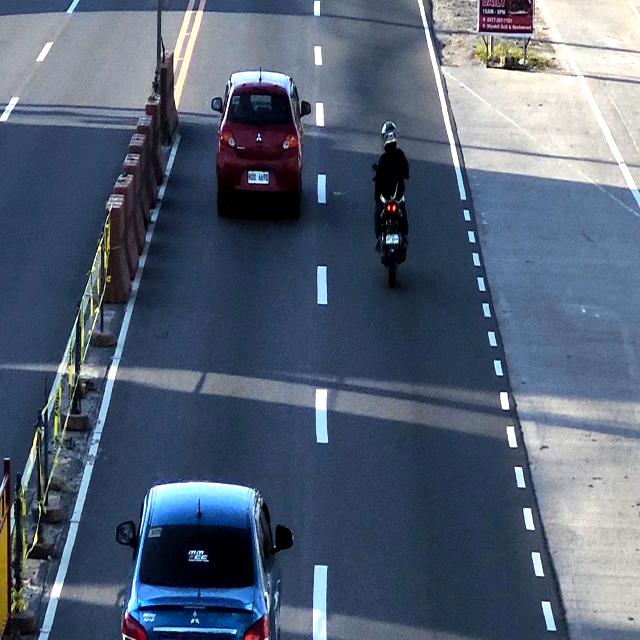Car: (123, 479, 283, 640), (217, 68, 306, 212)
License-Plate: (244, 167, 273, 188), (384, 230, 401, 249)
Motorcycle: (374, 122, 407, 284)
